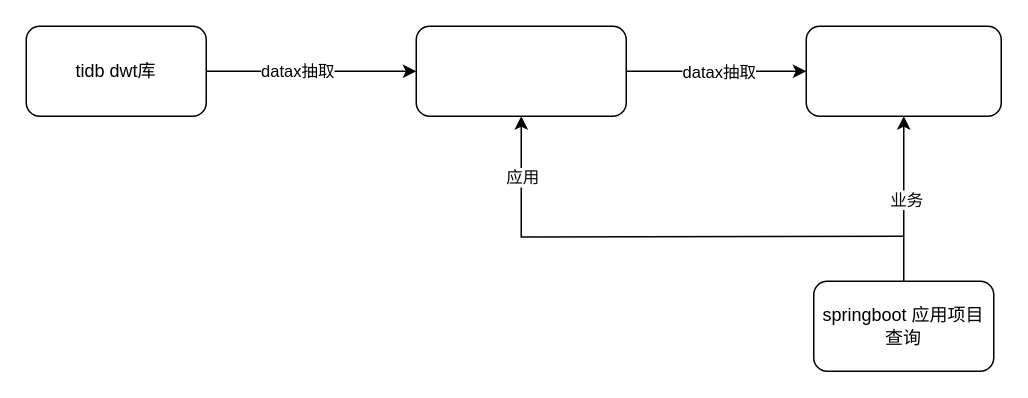
Some shapes in this 1028 by 398 pixel diagram are drawn without their labels. The centre of each missing label's shape, as x and y in pixels:
"polar api_data（业务库） api_system（应用库）" belongs at pixel 520 70.
"selectdb api_data库（业务库）" belongs at pixel 903 70.
